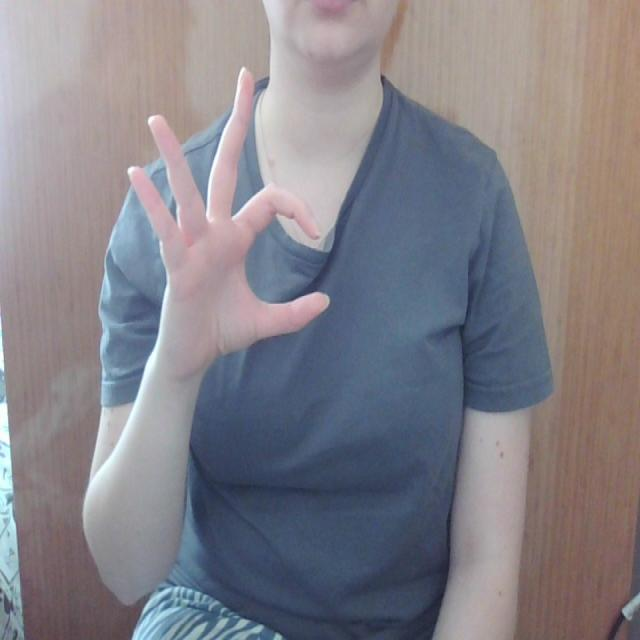Tuvalet: (110, 59, 340, 382)
